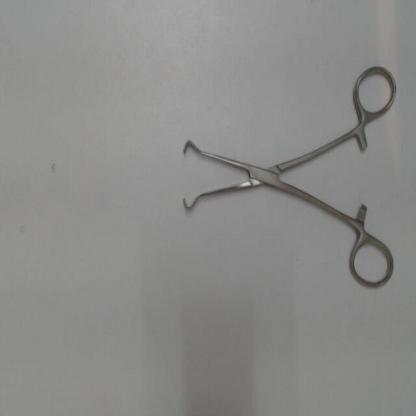Babcock Tissue Forceps: (175, 57, 403, 295)
